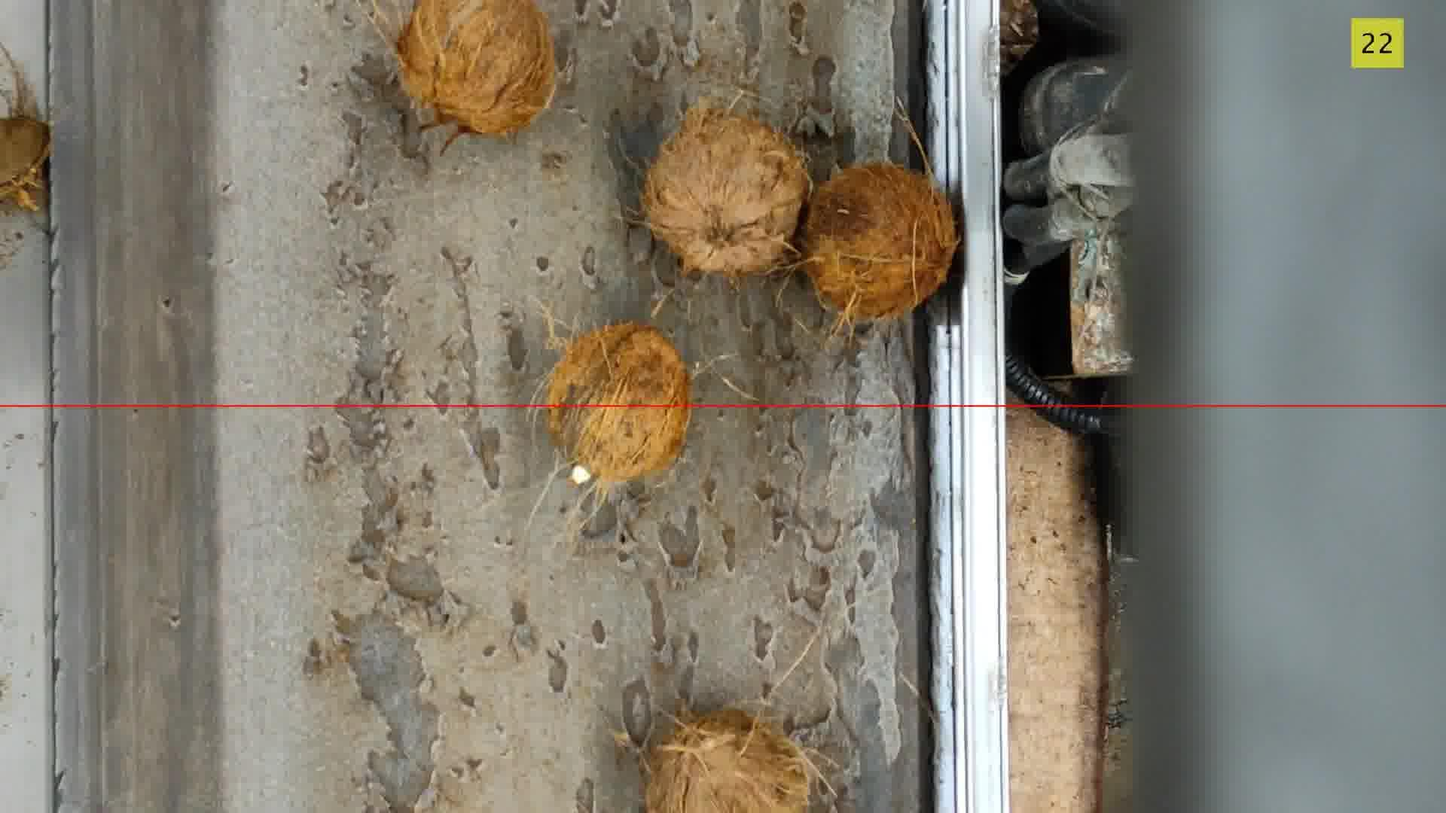Coconut: (640, 101, 810, 278), (801, 163, 960, 324), (546, 321, 691, 489), (396, 0, 557, 151), (638, 701, 837, 812), (0, 45, 51, 211), (0, 116, 50, 211)
